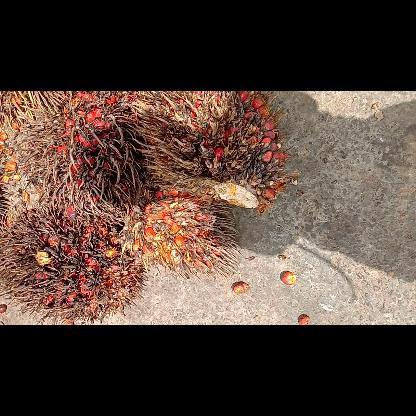Terlalu masak: (131, 90, 302, 214), (17, 91, 160, 227), (0, 198, 153, 324), (114, 182, 244, 284)
